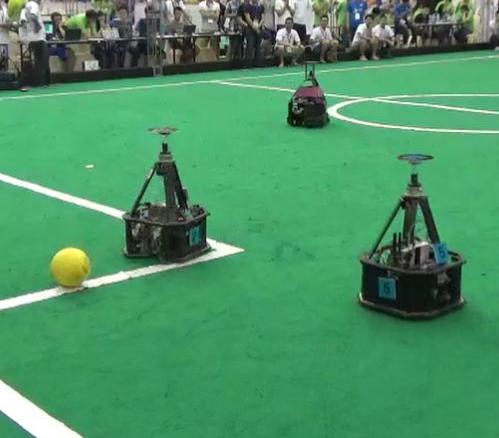robot: (355, 151, 468, 321), (118, 124, 216, 262), (284, 59, 332, 130)
